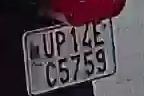1: (69, 26, 79, 55)
4: (81, 22, 95, 50)
5: (57, 55, 71, 84), (82, 50, 95, 77)
7: (69, 53, 81, 81)
9: (94, 48, 108, 73)
C: (45, 61, 58, 87)
E: (92, 21, 109, 49)
P: (53, 29, 68, 56)
U: (41, 31, 55, 59)
